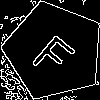F: (29, 26, 83, 81)
